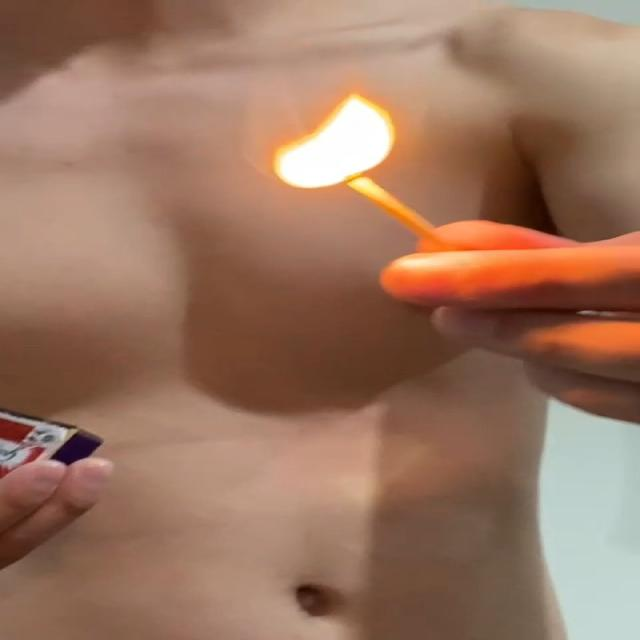fogo-ypXI: (269, 83, 399, 190)
